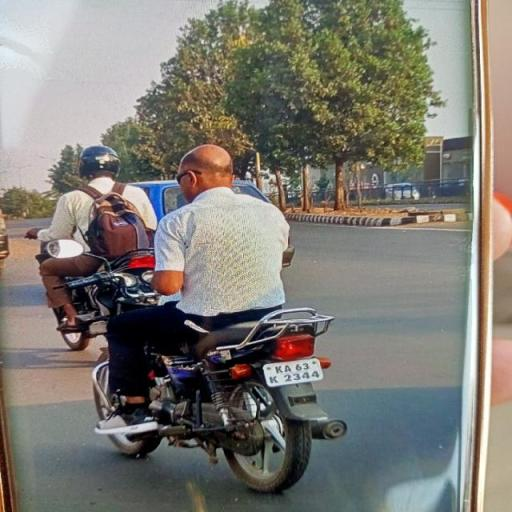bike: (68, 136, 364, 494)
numberplate: (261, 354, 327, 390)
withouthelmet: (182, 146, 235, 185)
